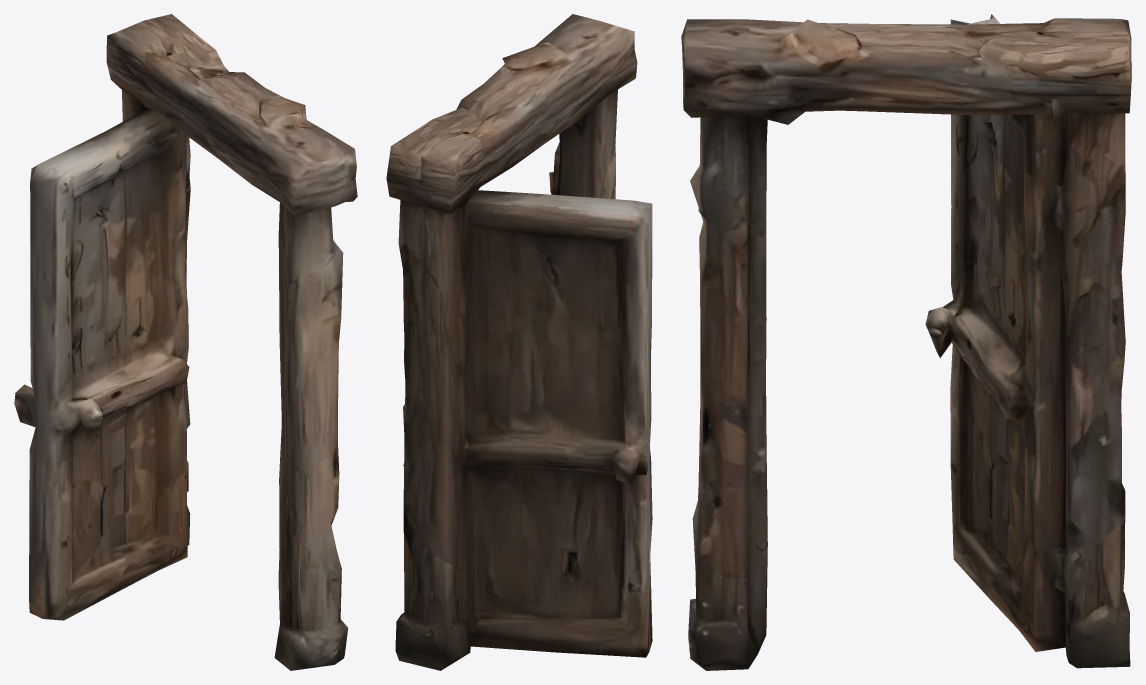
The model's file is d_door.glb.
The picture shows the model from 3 angles, left to right: view 1: azimuth 30°, elevation 25°; view 2: azimuth 150°, elevation 25°; view 3: azimuth 270°, elevation 25°; orthographic projection. The views are drawn at different scales.
Visible parts, largest first — view 1: tripo_node_bec6b4e4-a8d5-40a7-b2af-a1b5650b5bf8; view 2: tripo_node_bec6b4e4-a8d5-40a7-b2af-a1b5650b5bf8; view 3: tripo_node_bec6b4e4-a8d5-40a7-b2af-a1b5650b5bf8.
Part boxes in pixels (bbox=[...]): tripo_node_bec6b4e4-a8d5-40a7-b2af-a1b5650b5bf8: bbox=[14, 14, 357, 670]; tripo_node_bec6b4e4-a8d5-40a7-b2af-a1b5650b5bf8: bbox=[386, 14, 652, 670]; tripo_node_bec6b4e4-a8d5-40a7-b2af-a1b5650b5bf8: bbox=[681, 14, 1131, 670].
Bounding box in the file's own units: 0.4303 × 1 × 0.6493.
Materials: 1 (1 with a texture image).
